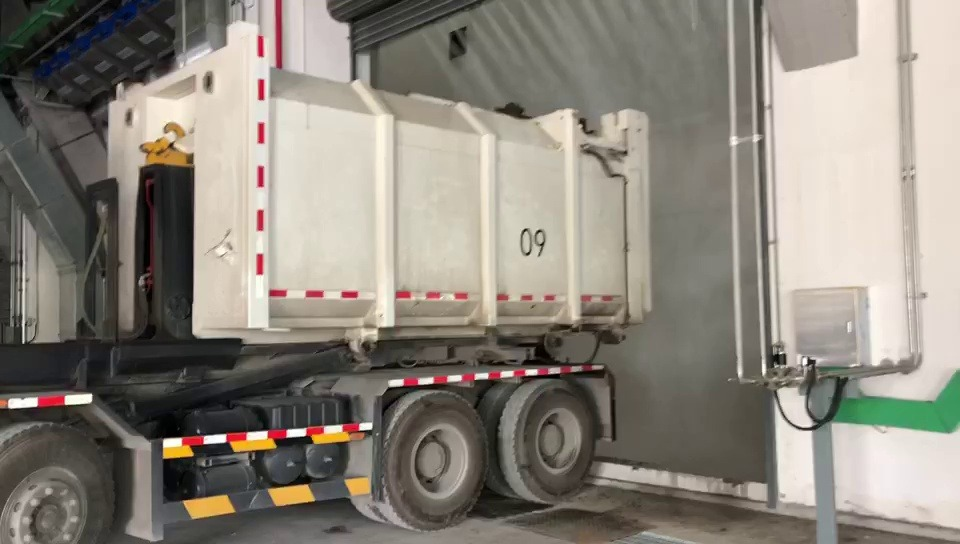truck: (0, 19, 657, 544)
